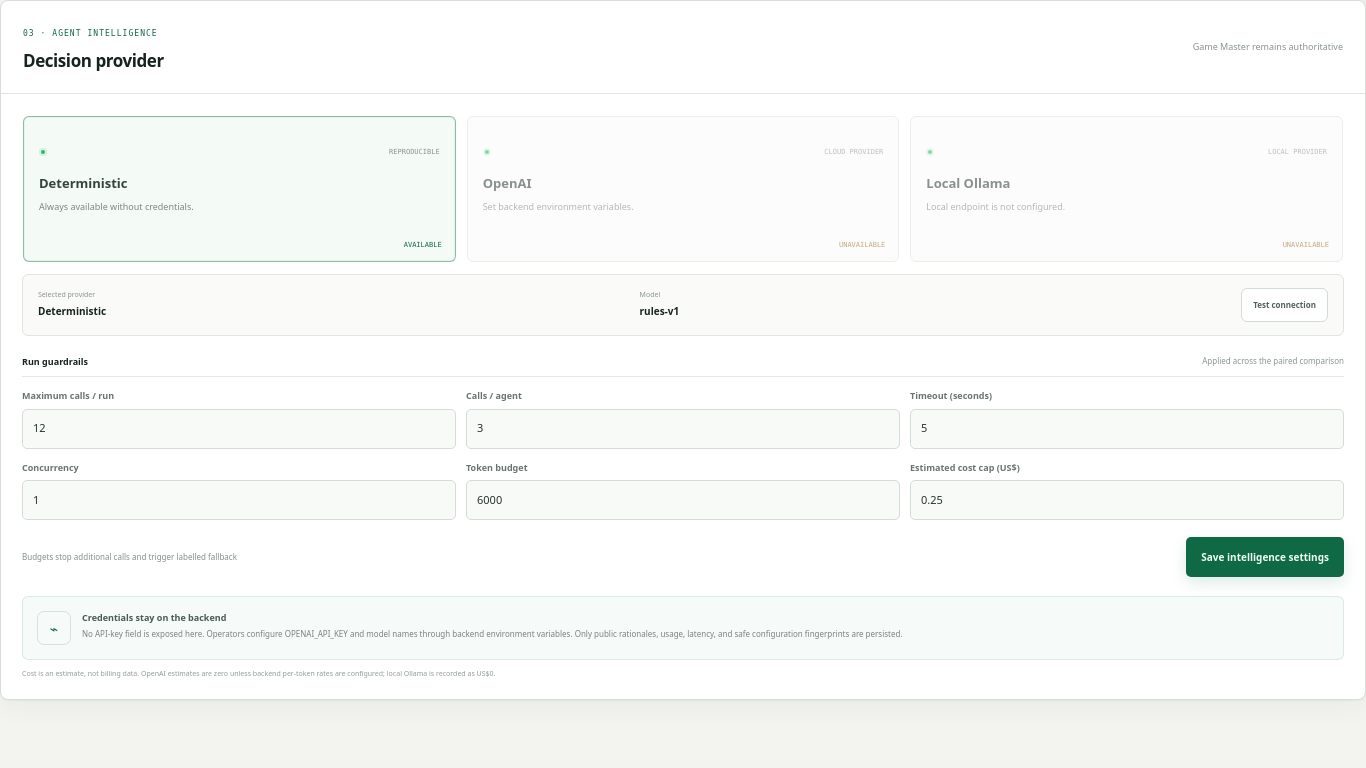
Test: AgentIntelligence › keeps deterministic mode available and makes missing providers clear
Expected: the button "Deterministic" is enabled, [23, 116, 456, 262]
Expected: the button "OpenAI" is disabled, [467, 116, 899, 262]
Step 1. Click the button "Test connection" → (1285, 304), box [1241, 288, 1328, 322]
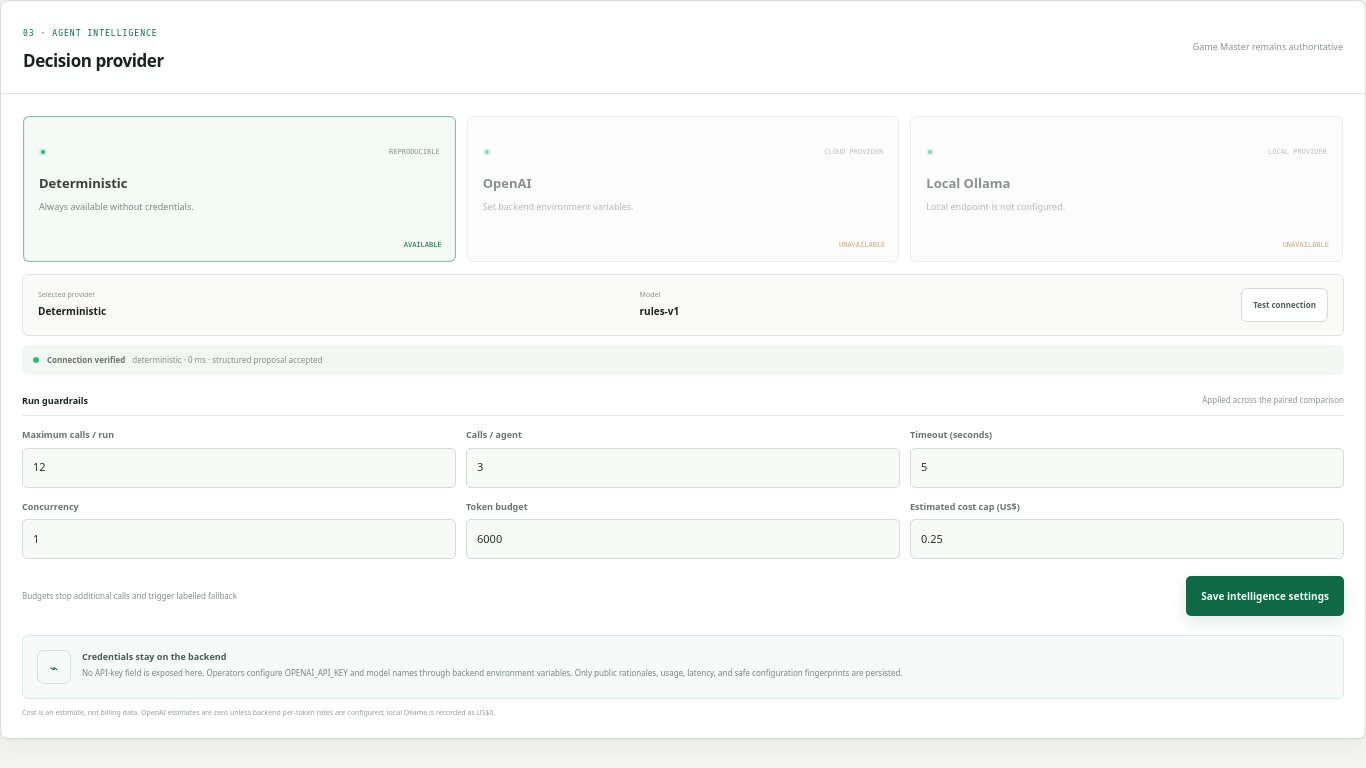
Now the text "Connection verified" is shown, box [47, 354, 125, 366]
